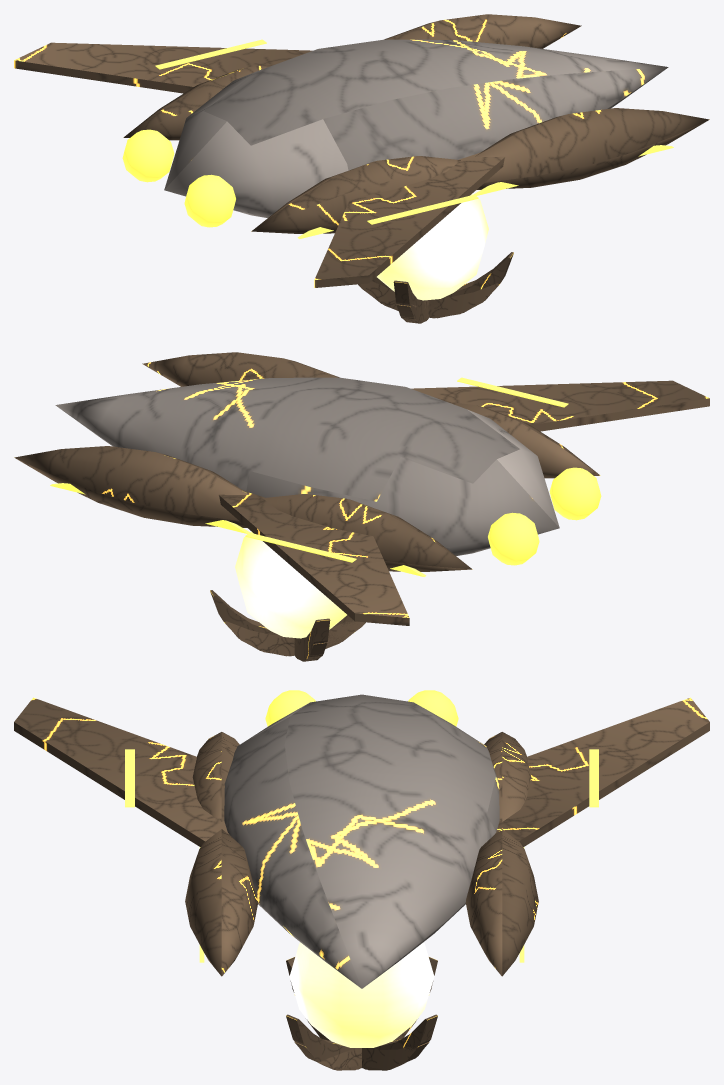
The model's file is dropper.glb.
3 views of the same model, one above another, from view 1: azimuth 30°, elevation 25°; view 2: azimuth 150°, elevation 25°; view 3: azimuth 270°, elevation 25° (orthographic). The views are drawn at different scales.
Parts seen in each view (by area): view 1: Hull; view 2: Hull; view 3: Hull.
Boxes of the visible parts, box(x1,y1,x2,y2) form: Hull: box(14, 14, 709, 323); Hull: box(14, 352, 709, 661); Hull: box(14, 690, 709, 1070).
Bounding box in the file's own units: 6.69 × 3.34 × 7.2.
Materials: 1 (1 with a texture image).
